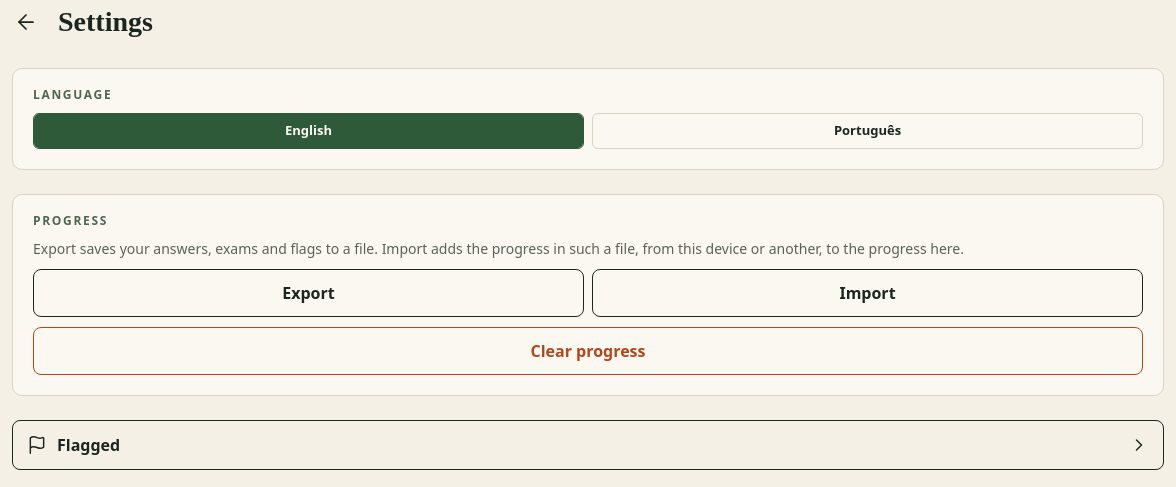
Test: Settings Flagged link › opens /flagged
The width and height of the screenshot is (1176, 487).
Click the link "Flagged" at (89, 445), box [12,420,1164,470]
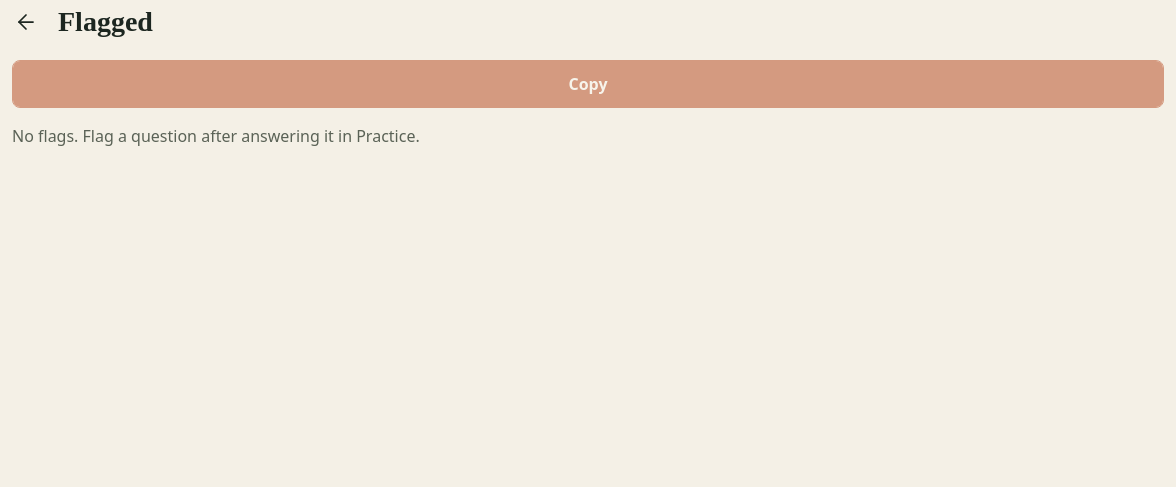
Expected: the heading reads "Flagged", [58,6,153,37]
